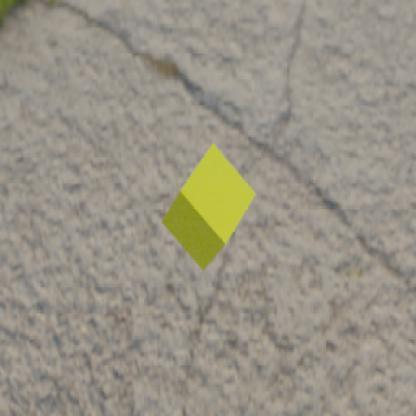cube: (161, 142, 255, 270)
